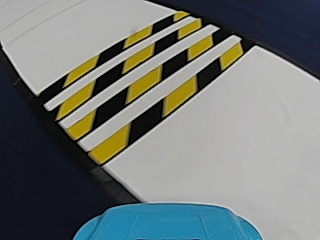bump: (49, 27, 246, 155)
